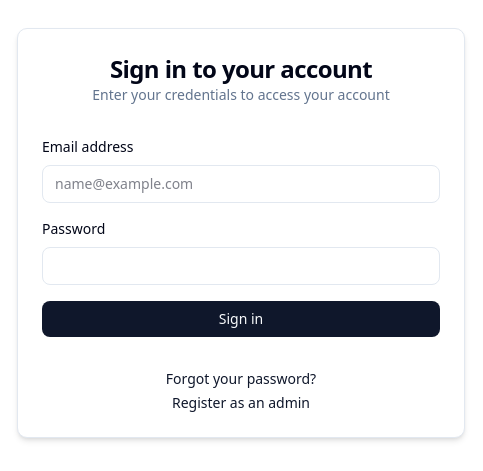
Test: LoginPage › shows error message on failed login
Type "bad@email" into the field labelled "Email address" at (241, 184), box top-left (42, 165), bottom-right (440, 203)
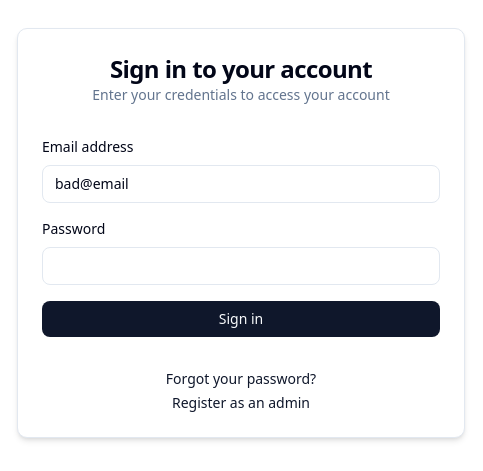
Type "wrongpass" into the password field labelled "Password" at (241, 266), box top-left (42, 247), bottom-right (440, 285)
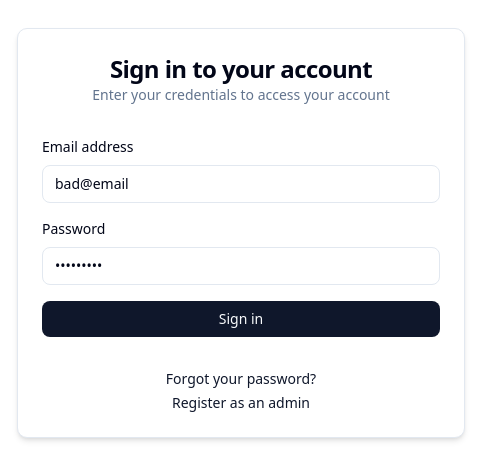
Click the button "Sign in" at (241, 319), box top-left (42, 301), bottom-right (440, 337)
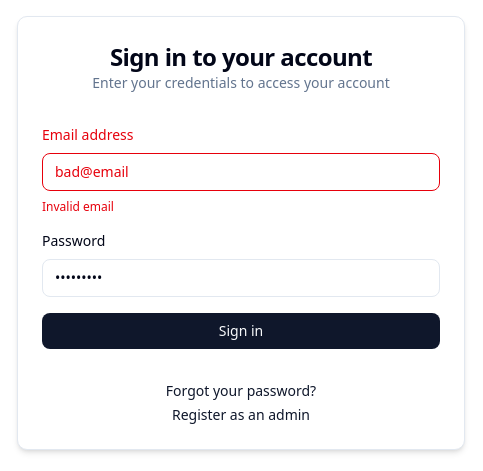
Check: the text "Invalid email" is shown, box top-left (42, 198), bottom-right (114, 215)
